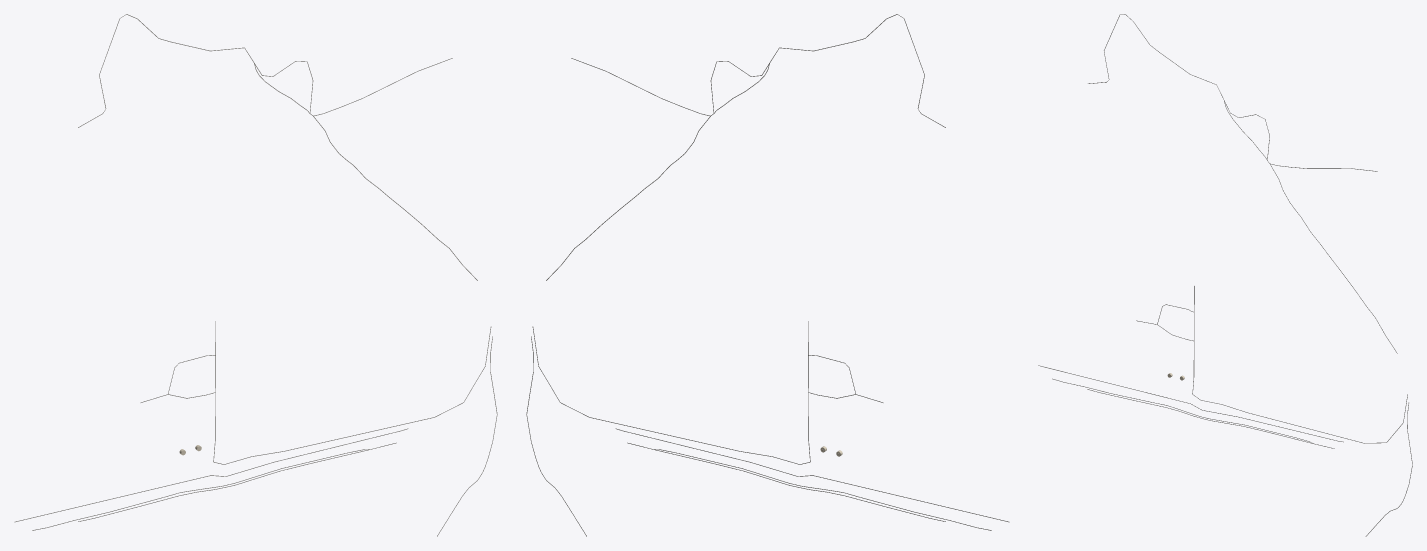
The model's file is historic-palestine-09_14_3509_3084.glb.
3 views of the same model, side by side, from view 1: azimuth 30°, elevation 25°; view 2: azimuth 150°, elevation 25°; view 3: azimuth 330°, elevation 25° (orthographic). The views are drawn at different scales.
Bounding box in the file's own units: 1173 × 1389 × 8.7.
